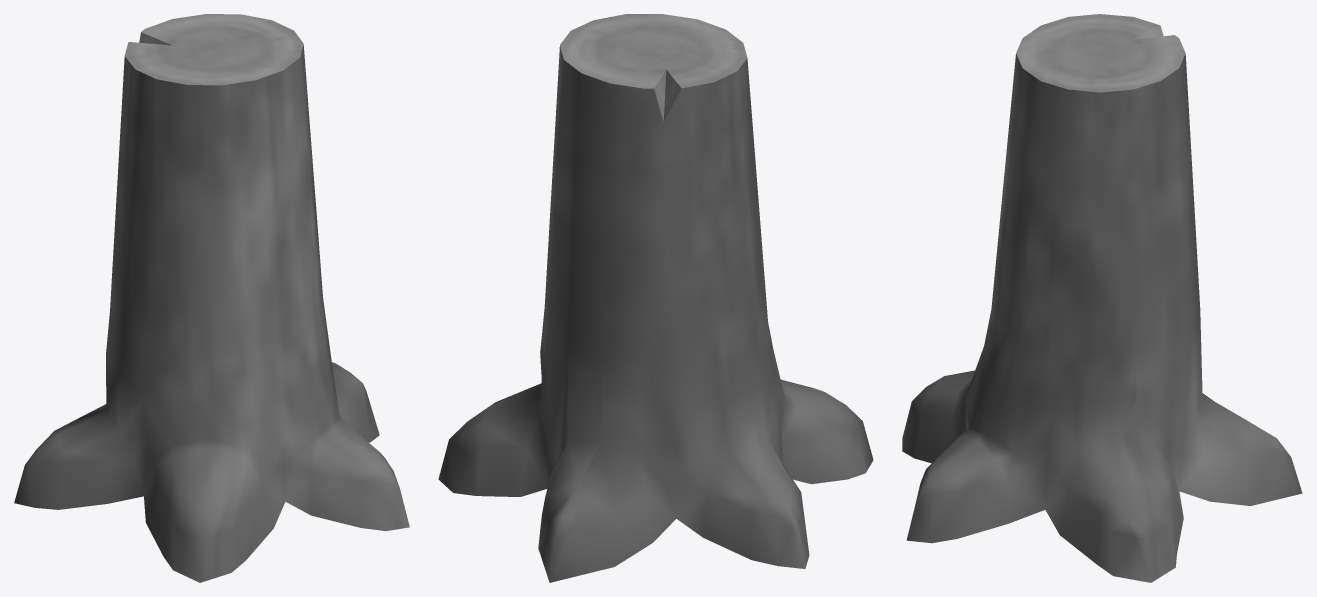
File: PltTreeOak1Stump.glb
3 views of the same model, side by side, from view 1: azimuth 30°, elevation 25°; view 2: azimuth 150°, elevation 25°; view 3: azimuth 270°, elevation 25° (orthographic). The views are drawn at different scales.
Visible parts, largest first — view 1: TrunkBottomTop__mPltTreeOakTrunk; view 2: TrunkBottomTop__mPltTreeOakTrunk; view 3: TrunkBottomTop__mPltTreeOakTrunk.
Part boxes in pixels (x1=…): TrunkBottomTop__mPltTreeOakTrunk: x1=14, y1=14, x2=409, y2=582; TrunkBottomTop__mPltTreeOakTrunk: x1=438, y1=14, x2=873, y2=582; TrunkBottomTop__mPltTreeOakTrunk: x1=902, y1=14, x2=1302, y2=582.
Size of the model in its own units: 3.74 by 4.4 by 3.62.
1 material, 1 textured.
